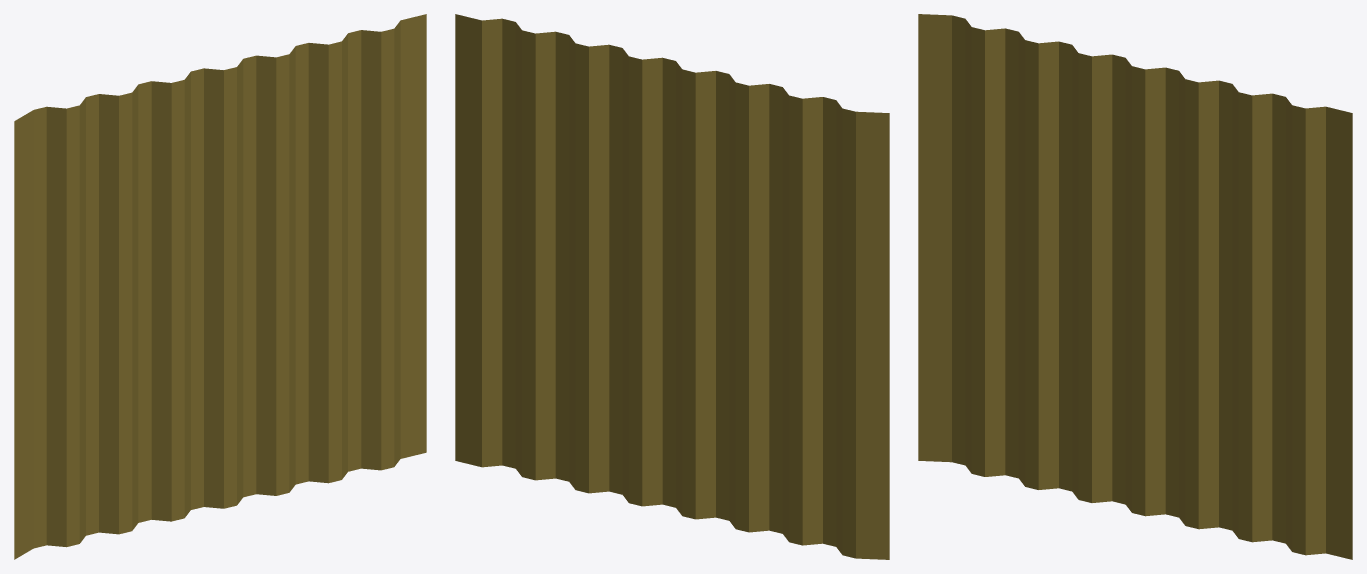
Rendered from RoofCorrugated01.fbx.
3 views of the same model, side by side, from view 1: azimuth 30°, elevation 25°; view 2: azimuth 150°, elevation 25°; view 3: azimuth 330°, elevation 25° (orthographic).
Visible parts, largest first — view 1: RoofCorrugatedLoBase; view 2: RoofCorrugatedLoBase; view 3: RoofCorrugatedLoBase.
Boxes of the visible parts, left/top/right/bottom form: RoofCorrugatedLoBase: left=14, top=14, right=426, bottom=559; RoofCorrugatedLoBase: left=455, top=14, right=889, bottom=559; RoofCorrugatedLoBase: left=918, top=14, right=1352, bottom=559.
Size of the model in its own units: 304 by 303 by 8.59.
